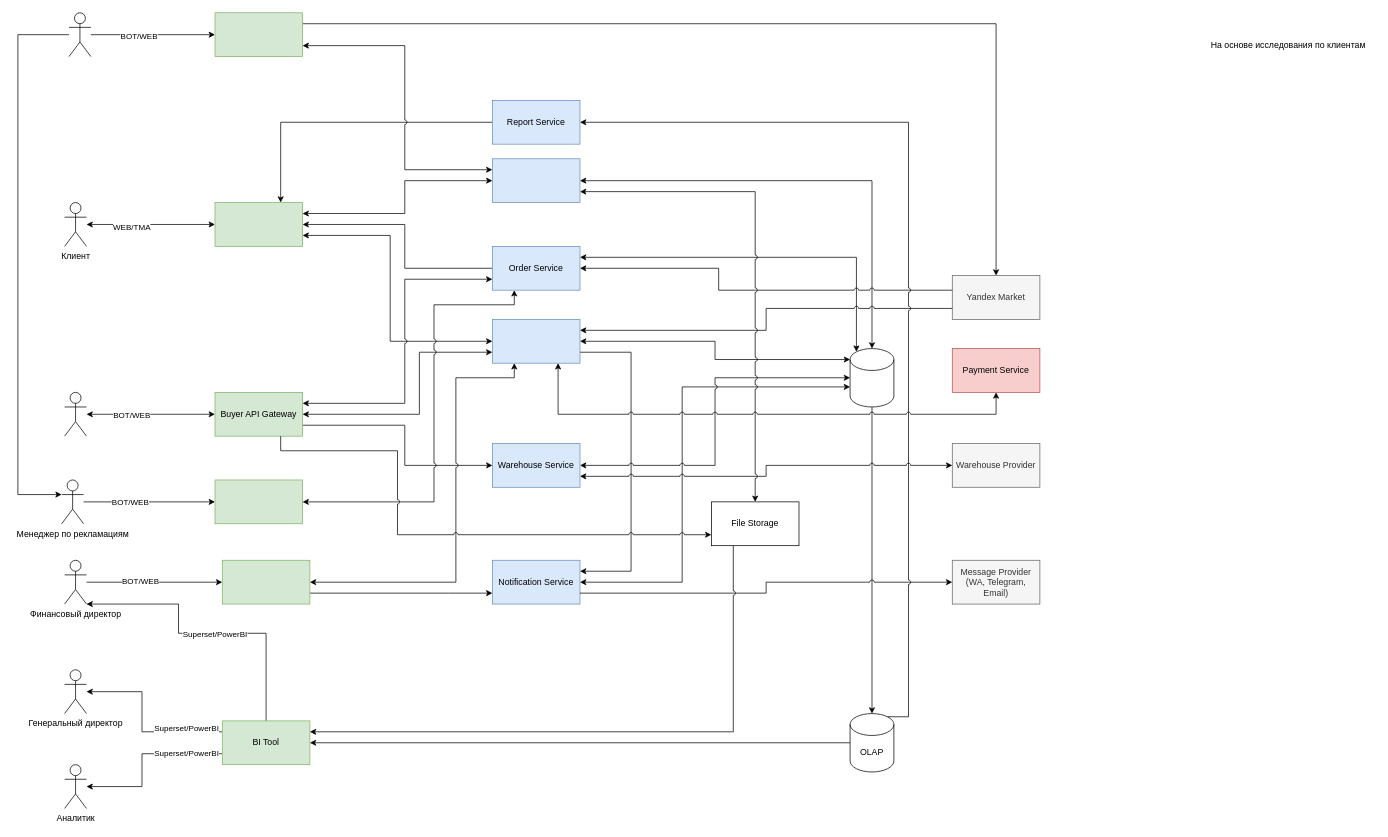
This 1388x837 diagram has some shape labels left out. Here are the shapes that lost their labels. From the top down, the box of each, then its label:
(68, 12, 91, 57): Менеджер маркетплейса
(214, 12, 303, 57): Customer Manager API Gateway
(492, 158, 580, 203): User Service
(214, 202, 303, 246): Customer API Gateway
(492, 319, 580, 363): Billing Service
(849, 348, 894, 407): DB
(64, 392, 87, 436): Баер
(214, 479, 303, 524): Сomplaint API Gateway
(222, 560, 310, 604): CFO API Gateway
